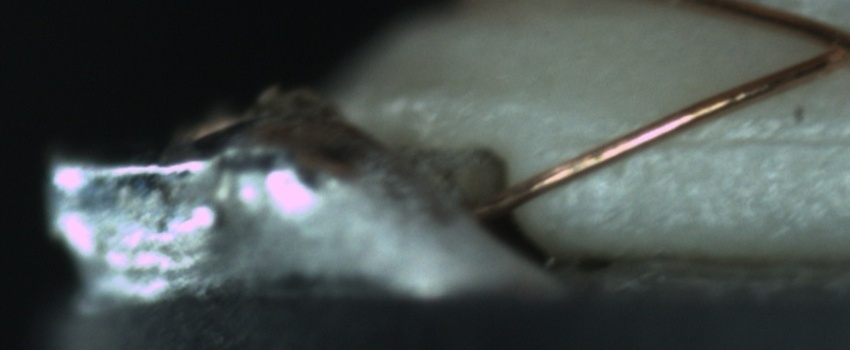CL: (799, 16, 850, 74)
DL: (570, 108, 848, 174)
